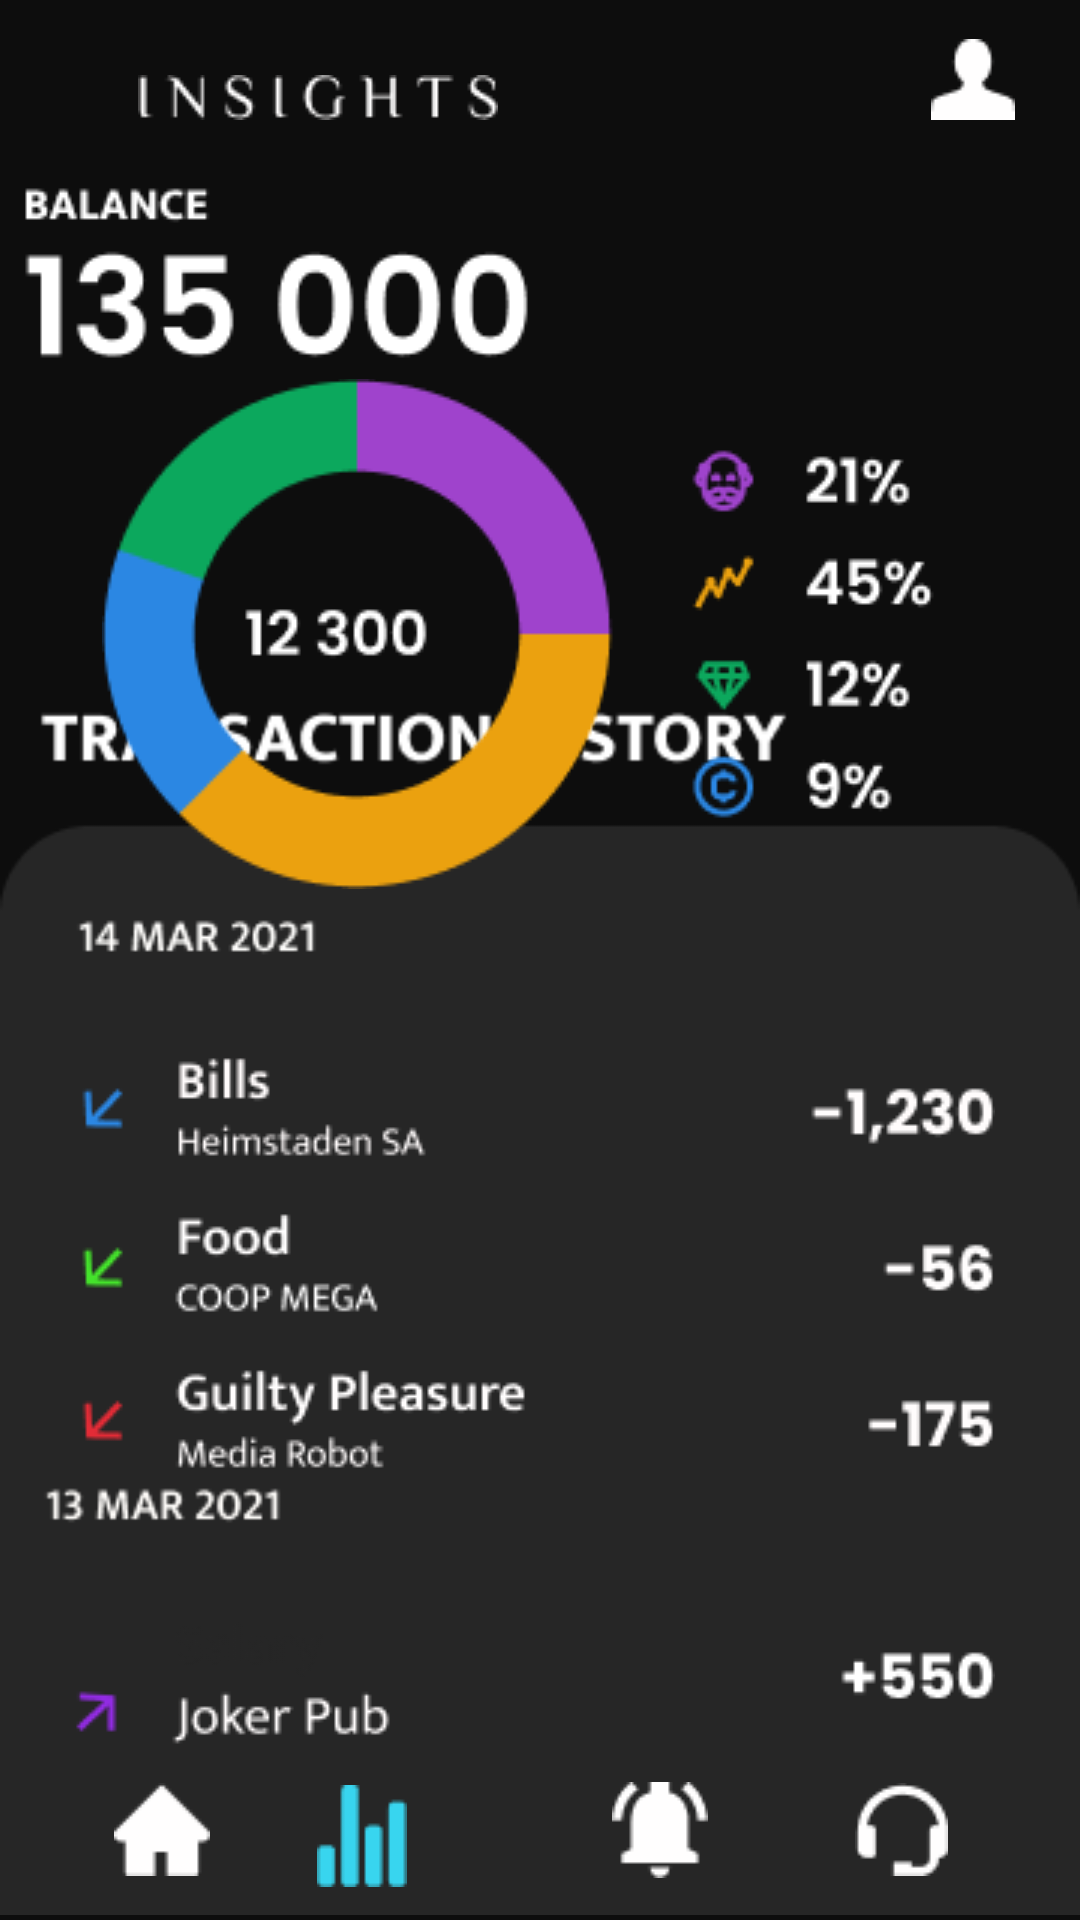

Icon click points for this 1080w x 1920h phone screenshot, format (x,y):
home: (162,1830)
notification: (660,1830)
profile: (973,79)
stats: (362,1836)
support: (901,1829)
